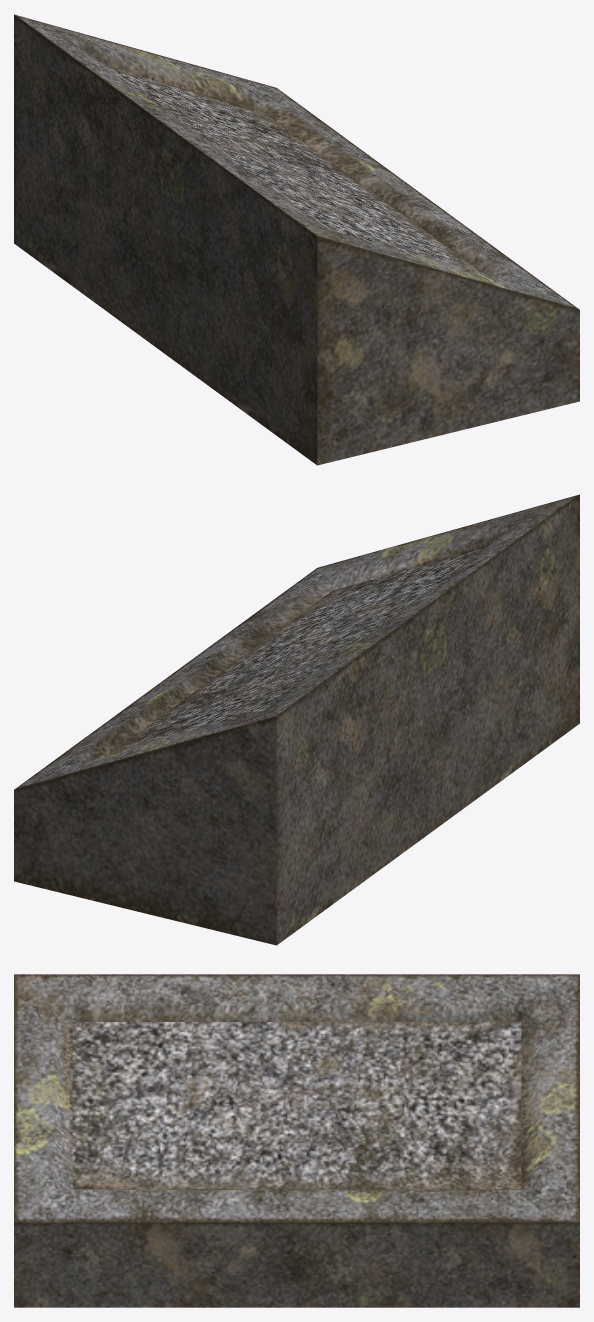
File: graveplate.glb
3 views of the same model, one above another, from view 1: azimuth 30°, elevation 25°; view 2: azimuth 150°, elevation 25°; view 3: azimuth 270°, elevation 25° (orthographic). The views are drawn at different scales.
Visible parts, largest first — view 1: Grave4_Graves_0; view 2: Grave4_Graves_0; view 3: Grave4_Graves_0.
Boxes of the visible parts, x1,y1,x2,y2 form: Grave4_Graves_0: (14, 14, 579, 465); Grave4_Graves_0: (14, 494, 579, 945); Grave4_Graves_0: (14, 974, 579, 1307).
Size of the model in its own units: 30.48 by 25.4 by 60.96.
Materials: 1 (1 with a texture image).
